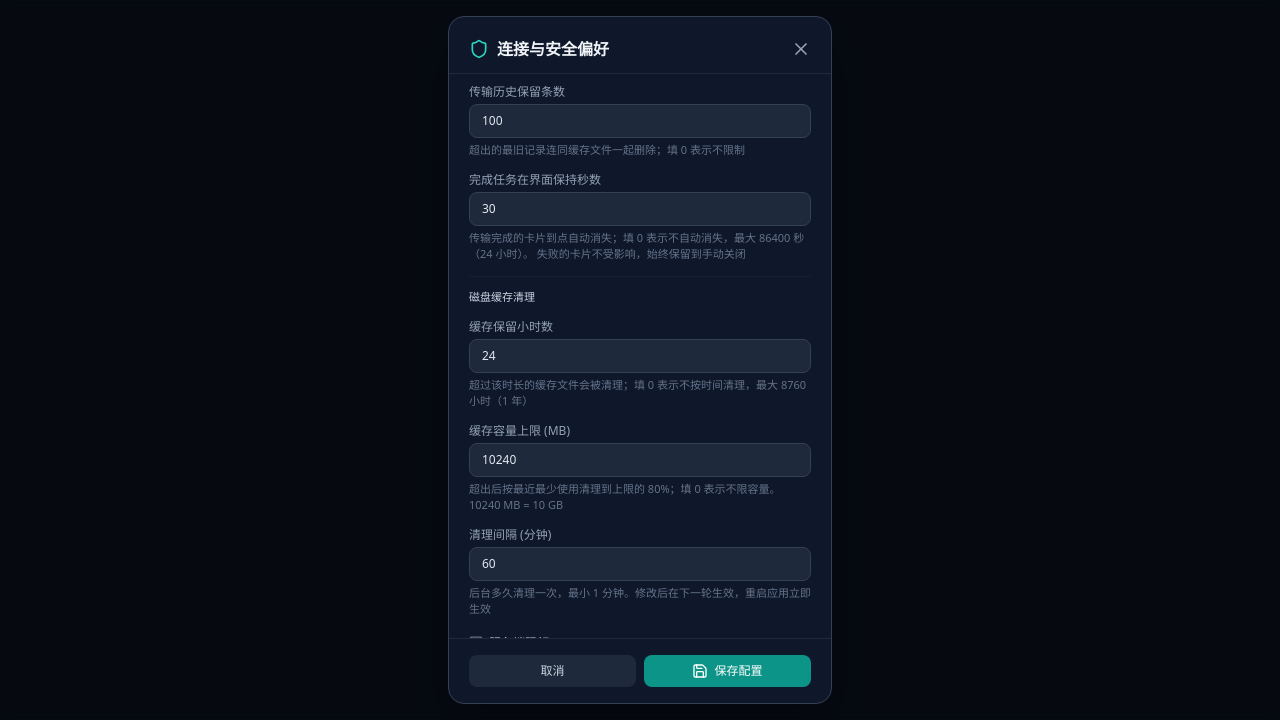
Test: 设置面板的数值校验 › 保留小时数超过 1 年被拦下
(page scrolled)
Replace the text in the number field labelled "缓存保留小时数" with "99999" at (640, 356), box 469,339 -> 811,373
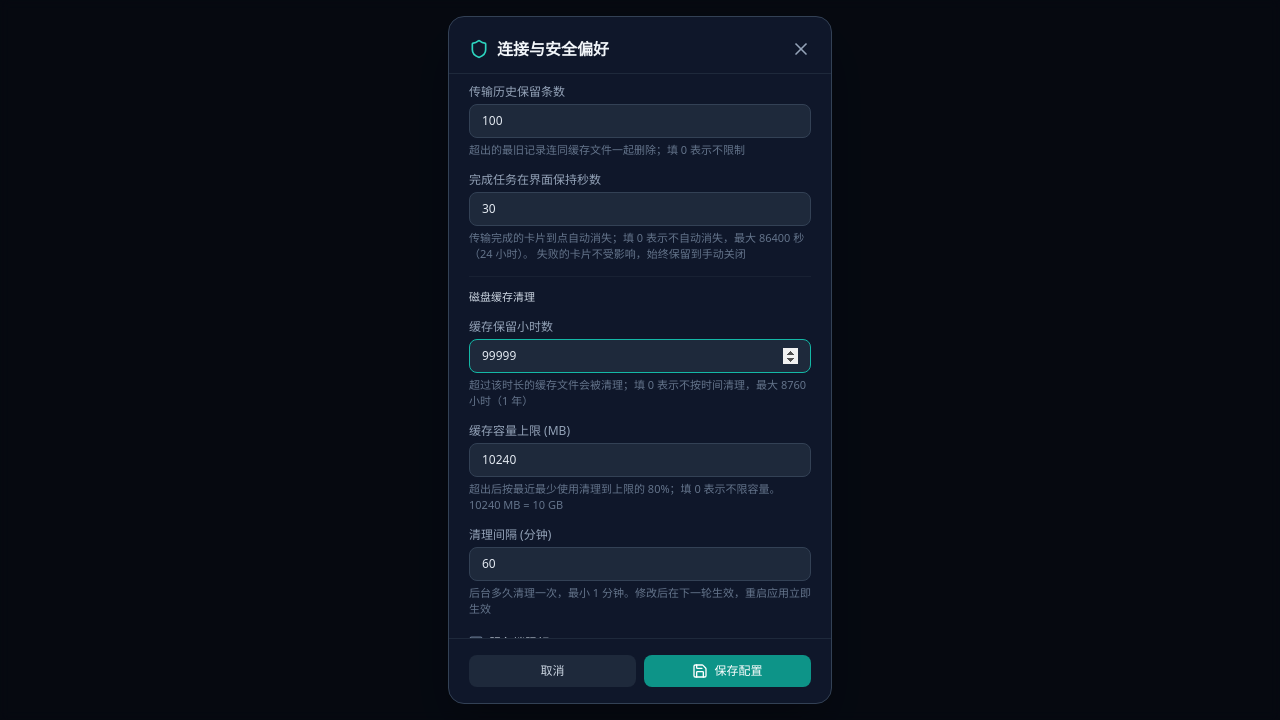
Click the button "保存配置".
click(728, 671)  # box 644,655 -> 811,687
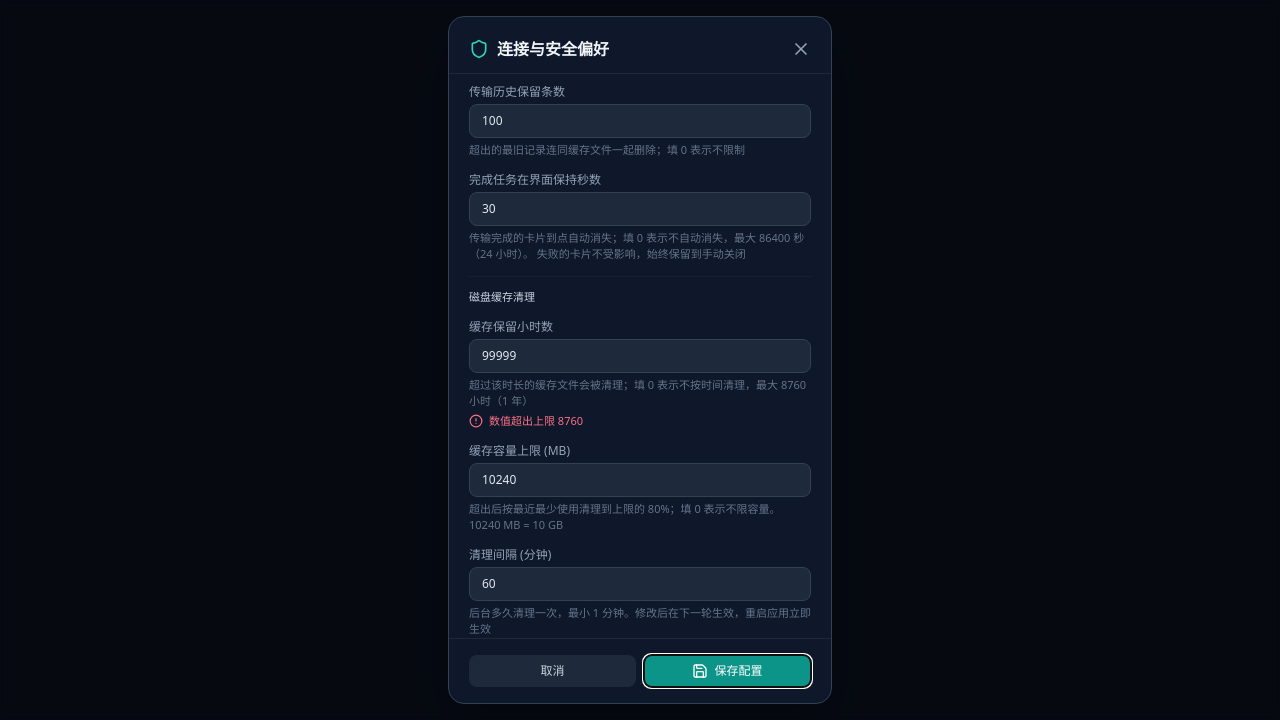
Result: the text "数值超出上限 8760" is shown at 489,413 -> 583,429
